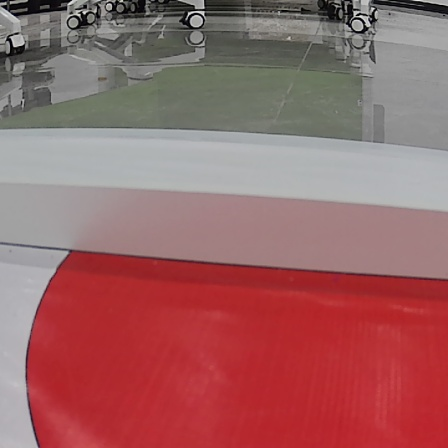red_base: (28, 241, 448, 448)
